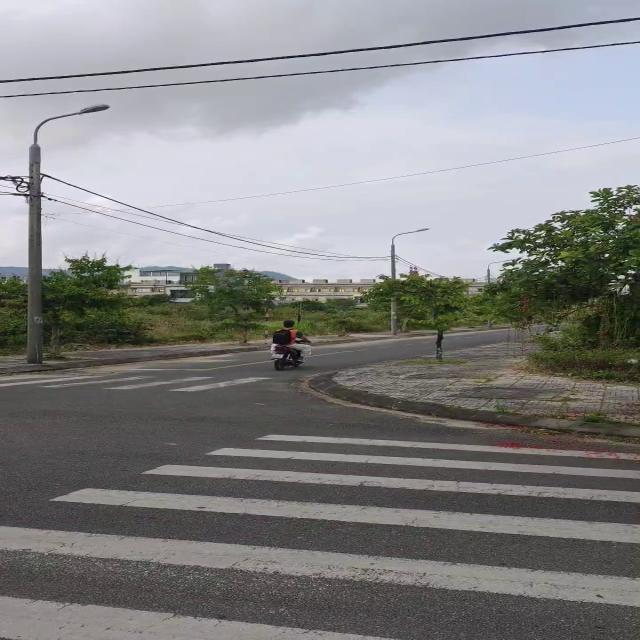without_helmet: (281, 316, 297, 334)
